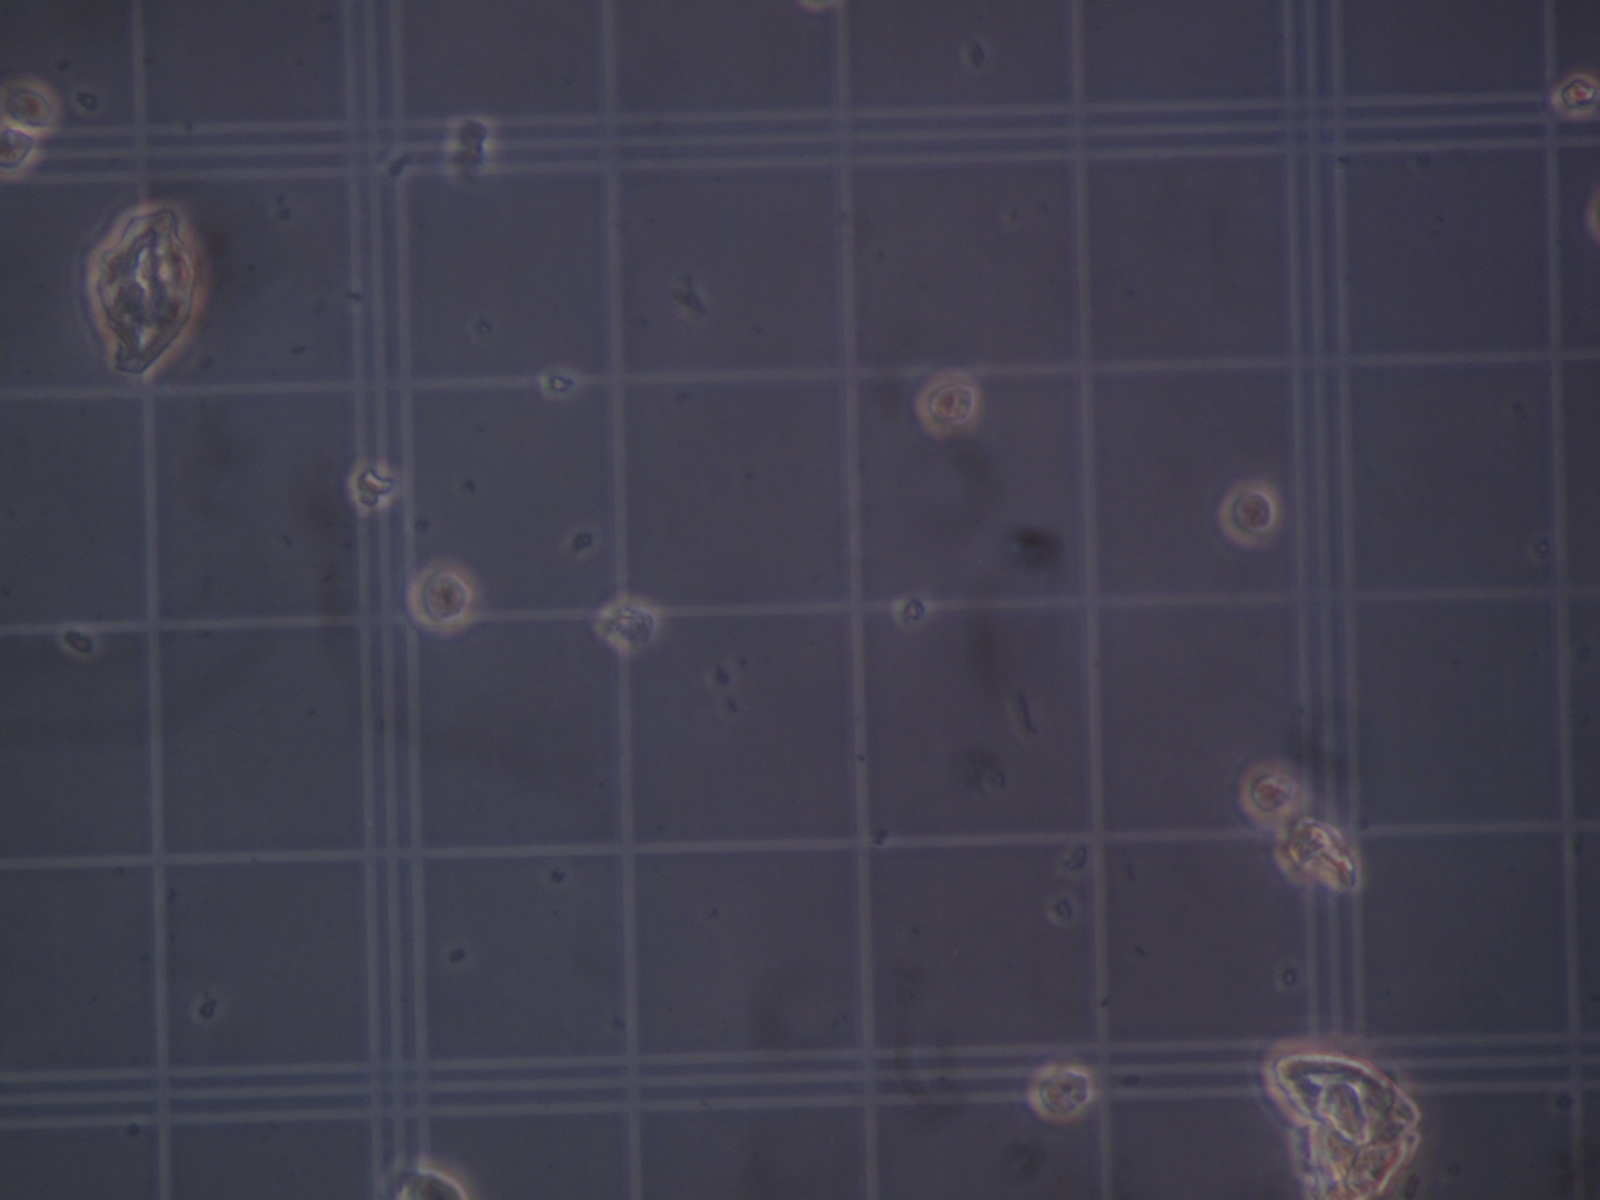hemo: (407, 562, 475, 633), (913, 374, 980, 437), (1027, 1063, 1095, 1124), (1217, 482, 1279, 548), (593, 595, 661, 655), (382, 1156, 470, 1200), (1238, 761, 1301, 823), (1, 78, 60, 136), (1551, 72, 1600, 120), (1, 125, 40, 182)
